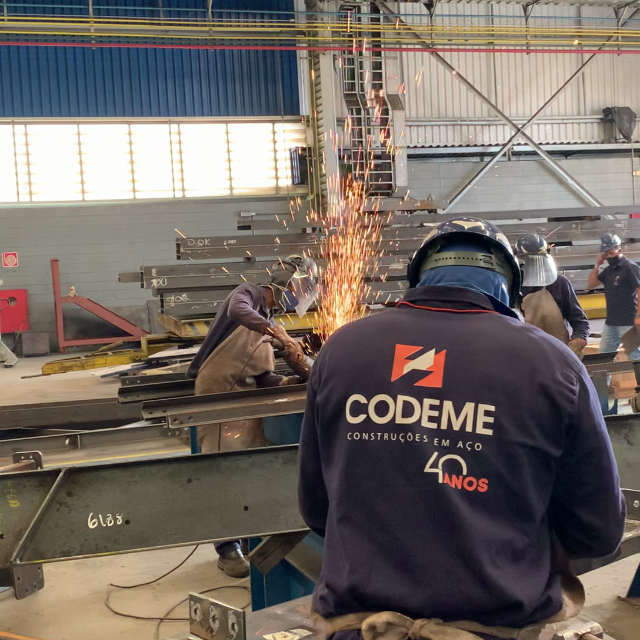face-shield: (282, 269, 320, 316)
glove: (267, 323, 306, 367)
helmet: (407, 216, 523, 311), (281, 253, 320, 287)
person: (297, 215, 627, 638), (299, 217, 624, 630), (185, 253, 321, 384)
safety-shoe: (217, 549, 254, 579)
